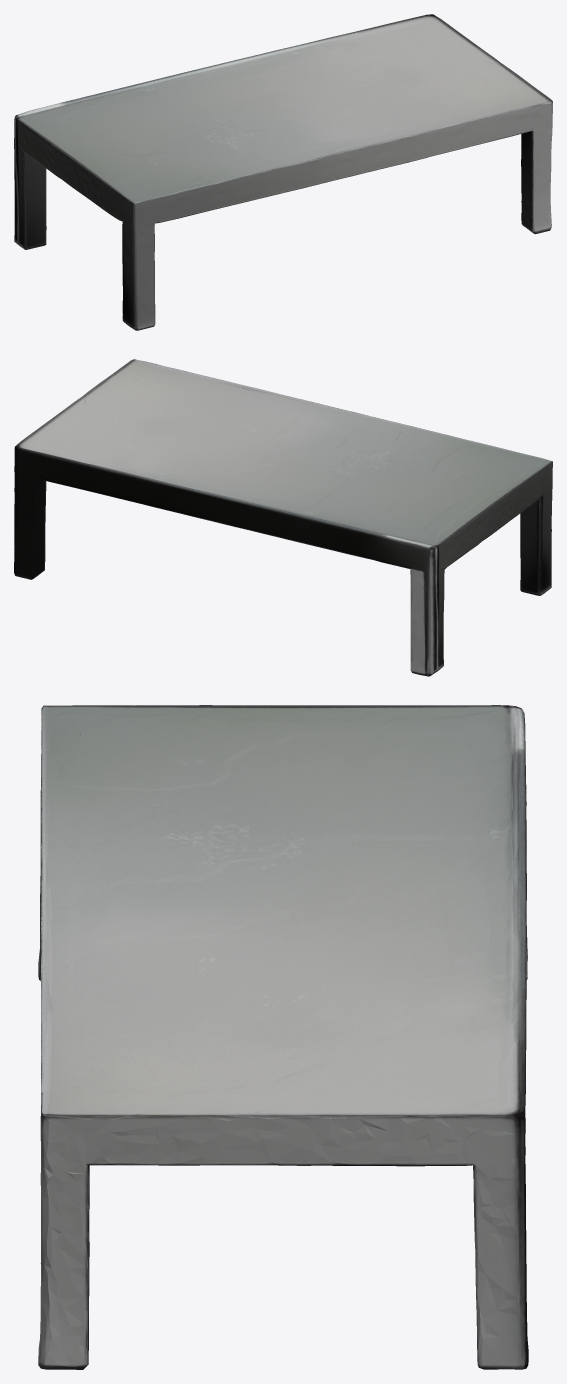
The picture shows the model from 3 angles, top to bottom: view 1: azimuth 30°, elevation 25°; view 2: azimuth 150°, elevation 25°; view 3: azimuth 270°, elevation 25°; orthographic projection. The views are drawn at different scales.
Parts seen in each view (by area): view 1: world; view 2: world; view 3: world.
Part boxes in pixels (x1,y1,x2,y2): world: (14,14,552,330); world: (14,359,552,676); world: (38,705,528,1369).
Bounding box in the file's own units: 0.9978 × 0.2942 × 0.5027.
Materials: 1 (1 with a texture image).
